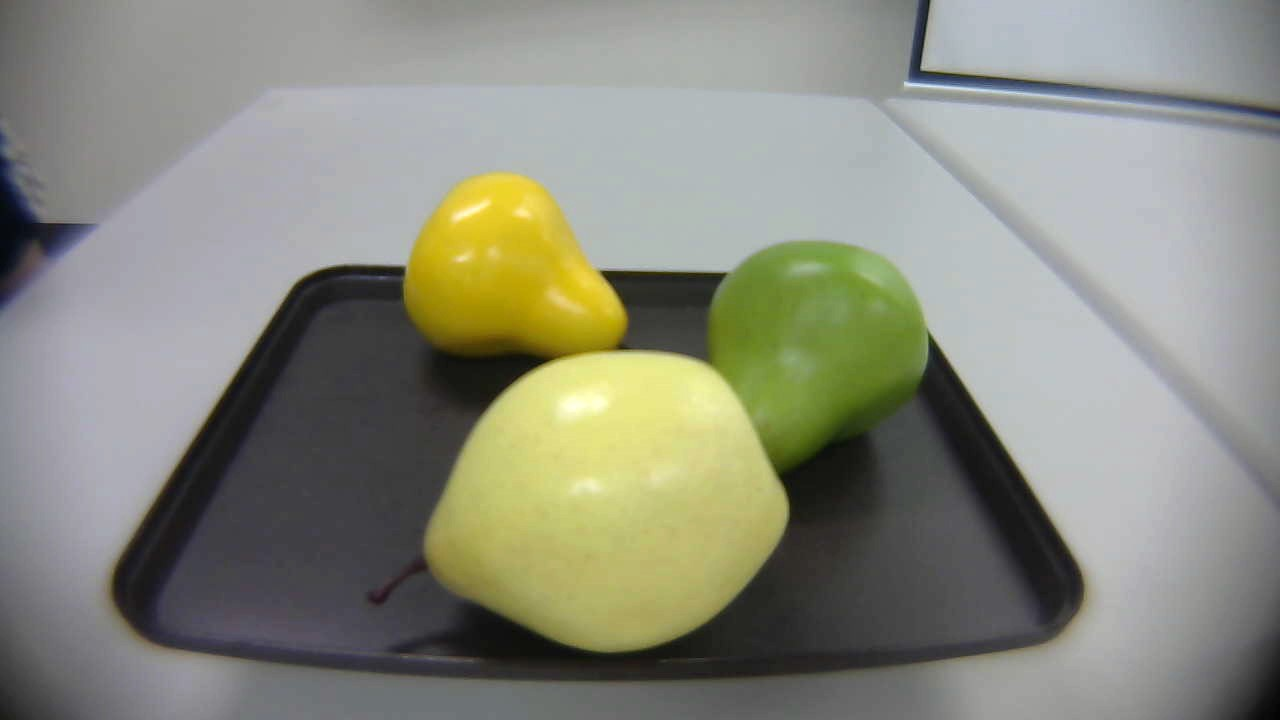green pear: (689, 227, 944, 505)
western pear: (373, 347, 796, 650)
yellow pear: (396, 164, 638, 368)
